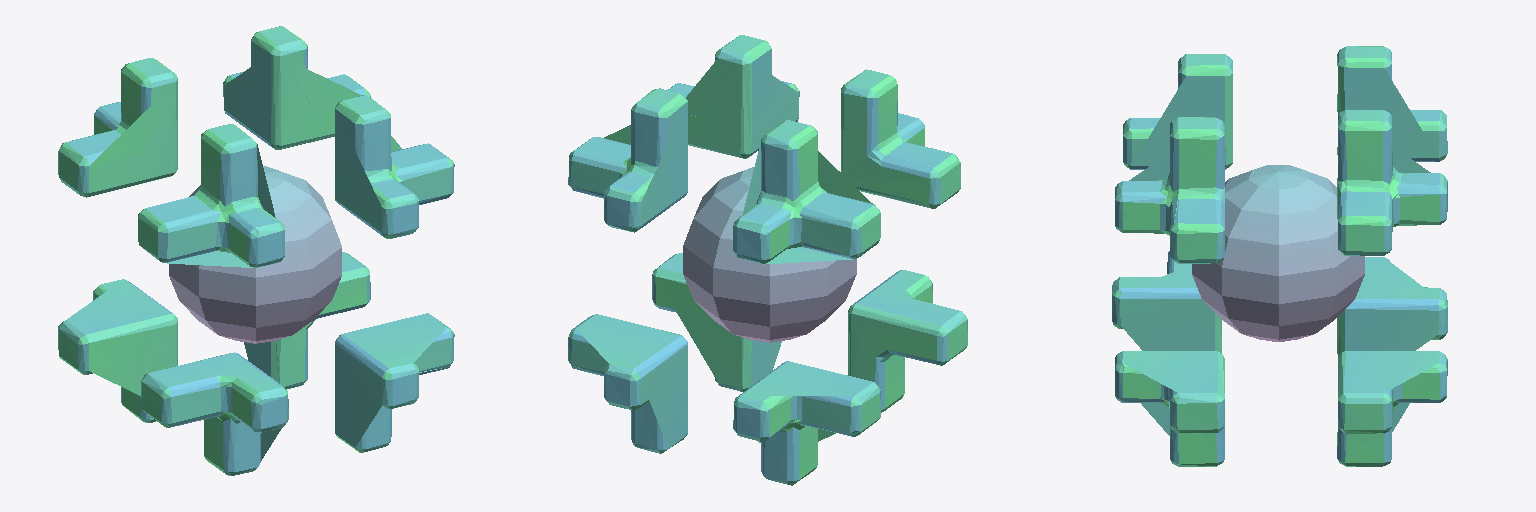
3 views of the same model, side by side, from view 1: azimuth 30°, elevation 25°; view 2: azimuth 150°, elevation 25°; view 3: azimuth 270°, elevation 25° (orthographic).
Visible parts, largest first — view 1: 000_Sphere, 001_1, 002_5, 007_2, 003_3, 008_6, 005_4, 004_7, 006_8; view 2: 000_Sphere, 003_3, 004_7, 005_4, 006_8, 001_1, 002_5, 007_2, 008_6; view 3: 000_Sphere, 007_2, 005_4, 008_6, 006_8, 004_7, 002_5, 003_3, 001_1.
Part boxes in pixels (left/top/right/bottom): 000_Sphere: left=169, top=166, right=341, bottom=343; 001_1: left=138, top=124, right=284, bottom=267; 002_5: left=141, top=352, right=288, bottom=475; 007_2: left=335, top=95, right=454, bottom=238; 003_3: left=58, top=58, right=177, bottom=197; 008_6: left=335, top=313, right=454, bottom=452; 005_4: left=223, top=26, right=370, bottom=149; 004_7: left=58, top=279, right=177, bottom=422; 006_8: left=244, top=252, right=370, bottom=389; 000_Sphere: left=683, top=167, right=856, bottom=342; 003_3: left=733, top=120, right=880, bottom=264; 004_7: left=733, top=361, right=880, bottom=485; 005_4: left=568, top=88, right=687, bottom=232; 006_8: left=568, top=314, right=687, bottom=453; 001_1: left=841, top=69, right=960, bottom=208; 002_5: left=848, top=270, right=967, bottom=412; 007_2: left=668, top=35, right=799, bottom=158; 008_6: left=652, top=253, right=781, bottom=391; 000_Sphere: left=1192, top=165, right=1364, bottom=341; 007_2: left=1115, top=117, right=1224, bottom=263; 005_4: left=1337, top=109, right=1447, bottom=255; 008_6: left=1115, top=351, right=1224, bottom=466; 006_8: left=1337, top=351, right=1447, bottom=466; 004_7: left=1337, top=257, right=1447, bottom=355; 002_5: left=1112, top=251, right=1221, bottom=353; 003_3: left=1337, top=46, right=1447, bottom=161; 001_1: left=1123, top=54, right=1232, bottom=169.
Bounding box in the file's own units: 30 × 33.7 × 29.6.
9 materials, 2 textured.